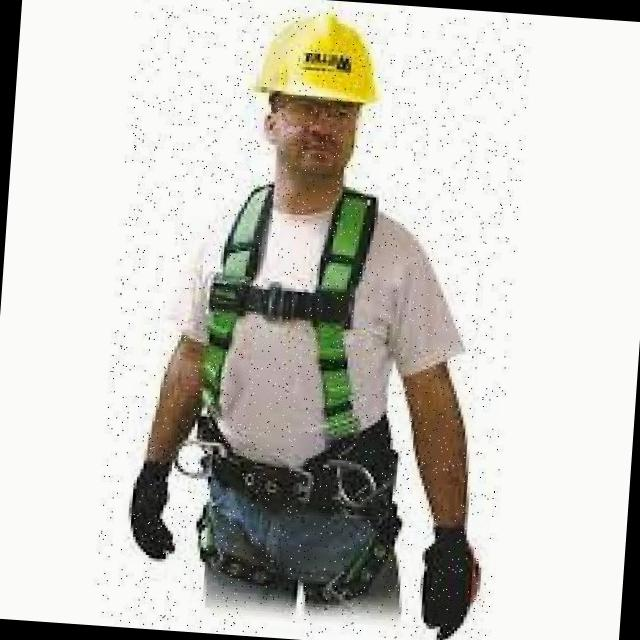helmet: (250, 8, 386, 104)
